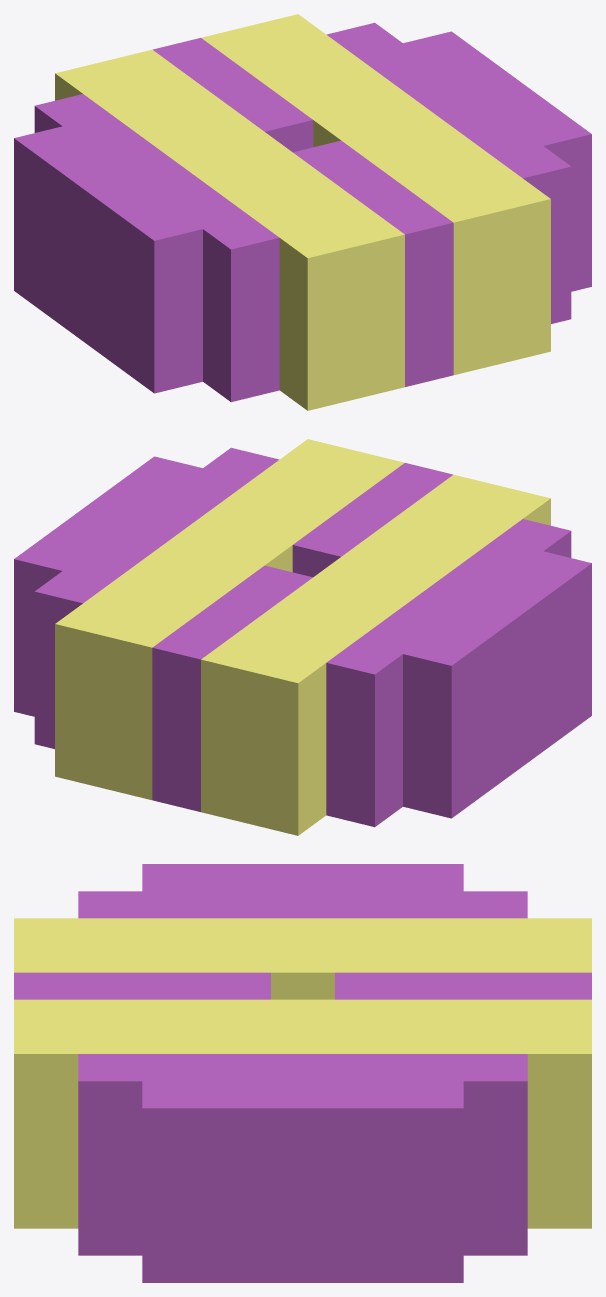
Rendered from Eruption-6.obj.
3 views of the same model, one above another, from view 1: azimuth 30°, elevation 25°; view 2: azimuth 150°, elevation 25°; view 3: azimuth 270°, elevation 25° (orthographic). The views are drawn at different scales.
Bounding box in the file's own units: 0.9 × 0.3 × 0.9.
Materials: 1 (1 with a texture image).
